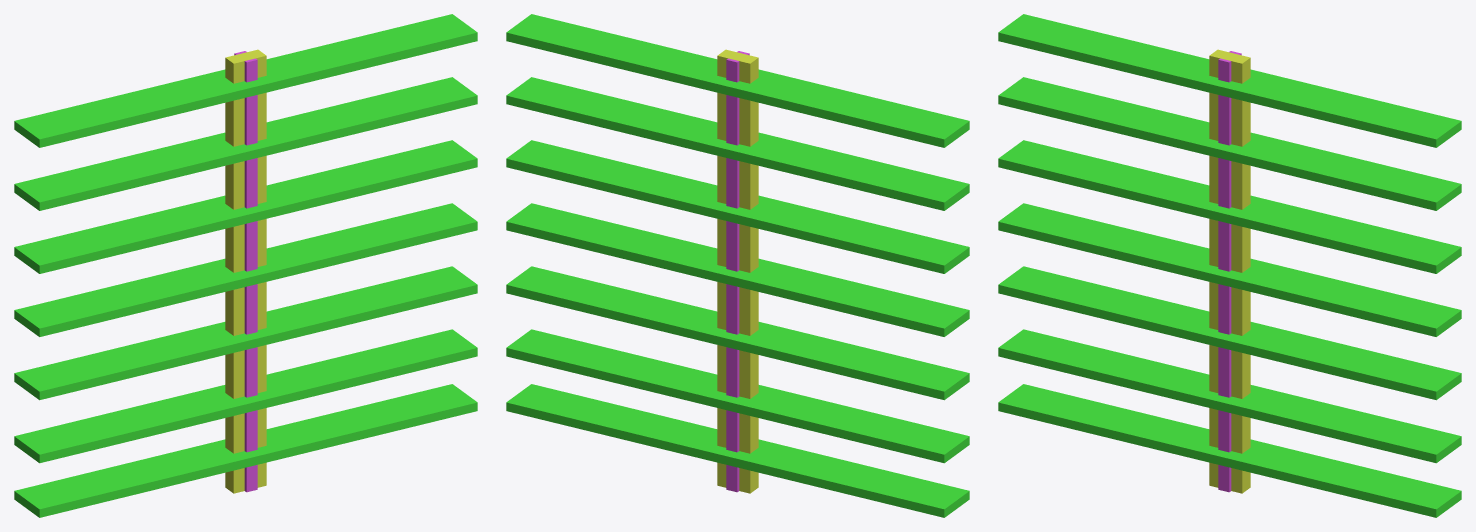
Rendered from Partition_Wall_01_B.fbx.
The picture shows the model from 3 angles, left to right: view 1: azimuth 30°, elevation 25°; view 2: azimuth 150°, elevation 25°; view 3: azimuth 330°, elevation 25°; orthographic projection.
Parts seen in each view (by area): view 1: Partition_Wall_01_B; view 2: Partition_Wall_01_B; view 3: Partition_Wall_01_B.
Boxes of the visible parts, x1,y1,x2,y2 form: Partition_Wall_01_B: (14,14,477,517); Partition_Wall_01_B: (506,14,969,517); Partition_Wall_01_B: (998,14,1461,517).
Bounding box in the file's own units: 91.44 × 85.72 × 9.14.
